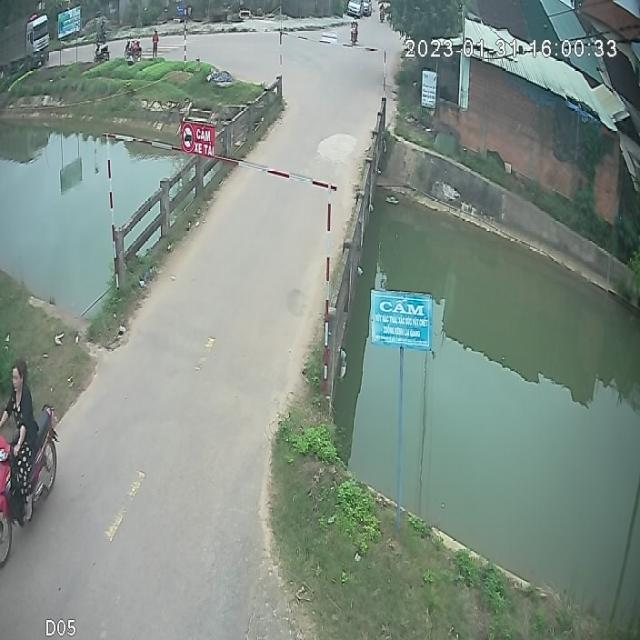without_helmet: (12, 357, 33, 402)
